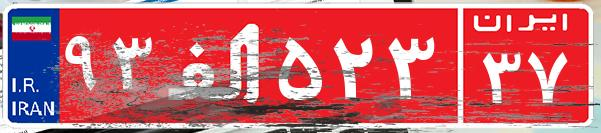2: (330, 28, 385, 110)
3: (385, 28, 445, 110), (475, 38, 525, 113), (110, 28, 158, 105)
5: (273, 28, 330, 110)
7: (525, 38, 570, 115)
9: (57, 26, 110, 107)
الف: (158, 15, 273, 115)
